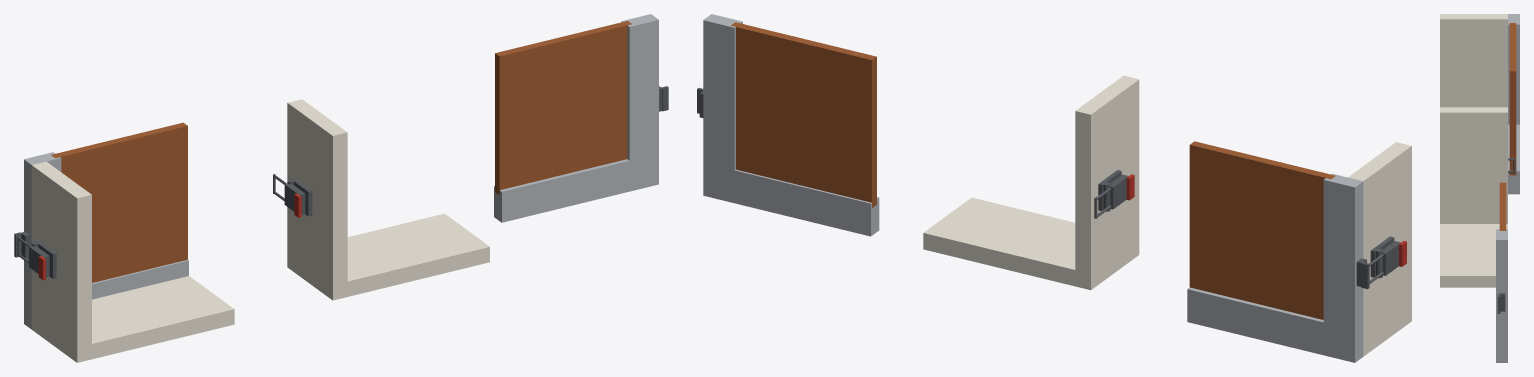
File: 1D_draw_latch.glb
3 views of the same model, side by side, from view 1: azimuth 30°, elevation 25°; view 2: azimuth 150°, elevation 25°; view 3: azimuth 270°, elevation 25° (orthographic). The views are drawn at different scales.
Parts seen in each view (by area): view 1: opened/leather, assembled/body, opened/body, assembled/leather, opened/frame, assembled/frame; view 2: opened/leather, assembled/leather, opened/body, assembled/frame, opened/frame, assembled/body; view 3: opened/body, assembled/body, opened/frame, assembled/frame, assembled/leather, opened/leather, opened/latch_keeper.
Part boxes in pixels (<box>): opened/leather: <box>495,21,631,194</box>; assembled/body: <box>31,161,234,362</box>; opened/body: <box>287,99,489,300</box>; assembled/leather: <box>51,122,187,282</box>; opened/frame: <box>494,14,658,222</box>; assembled/frame: <box>24,152,188,329</box>; opened/leather: <box>731,22,876,207</box>; assembled/leather: <box>1189,141,1335,319</box>; opened/body: <box>923,75,1139,290</box>; assembled/frame: <box>1187,173,1363,362</box>; opened/frame: <box>703,14,879,236</box>; assembled/body: <box>1348,142,1411,356</box>; opened/body: <box>1440,107,1507,287</box>; assembled/body: <box>1440,14,1507,107</box>; opened/frame: <box>1496,229,1507,362</box>; assembled/frame: <box>1508,14,1519,194</box>; assembled/leather: <box>1509,23,1516,175</box>; opened/leather: <box>1499,182,1506,230</box>; opened/latch_keeper: <box>1497,293,1505,313</box>.
Bounding box in the file's own units: 0.656 × 0.16 × 0.094.
